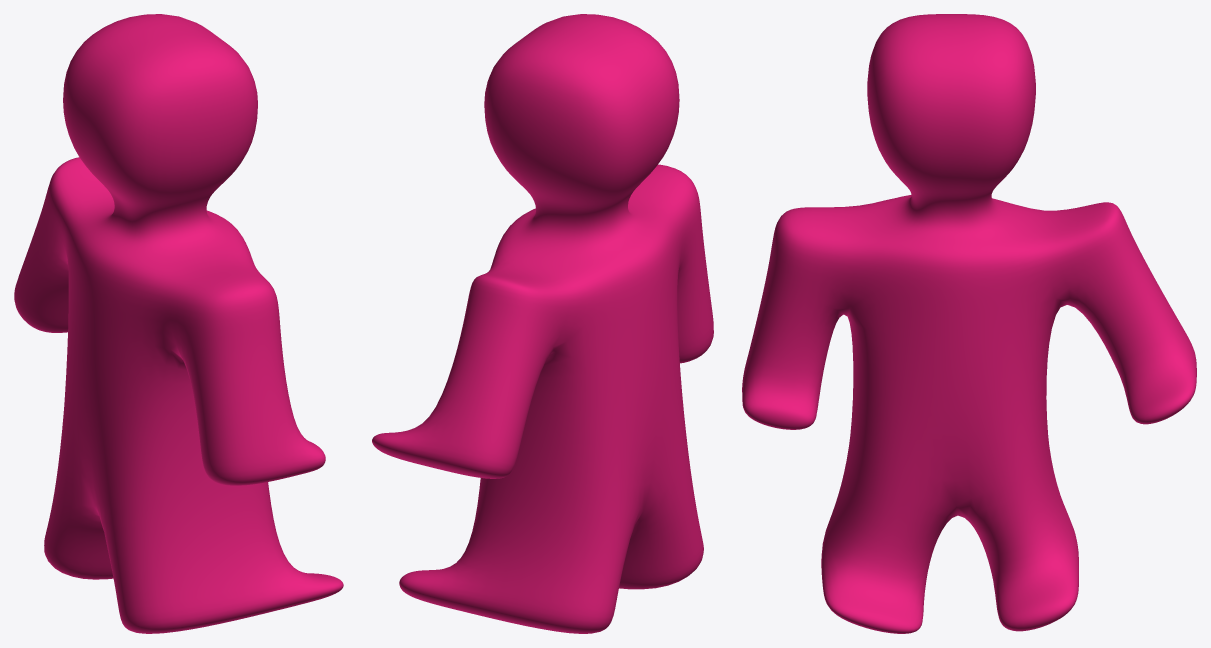
The model's file is Simple Character.fbx.
The picture shows the model from 3 angles, left to right: view 1: azimuth 30°, elevation 25°; view 2: azimuth 150°, elevation 25°; view 3: azimuth 270°, elevation 25°; orthographic projection. The views are drawn at different scales.
Visible parts, largest first — view 1: Cube; view 2: Cube; view 3: Cube.
Part boxes in pixels (x1,y1,x2,y2): Cube: [14, 14, 343, 633]; Cube: [372, 14, 713, 633]; Cube: [742, 14, 1196, 633].
Size of the model in its own units: 232 by 608 by 450.
